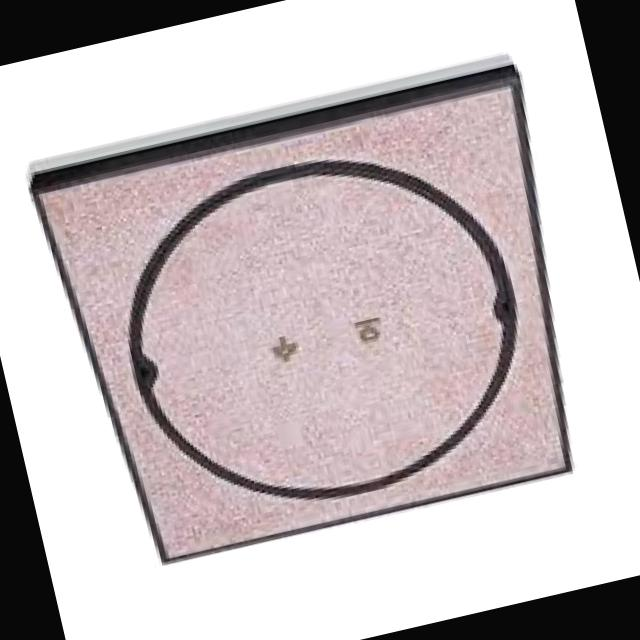manhole: (15, 20, 640, 606)
